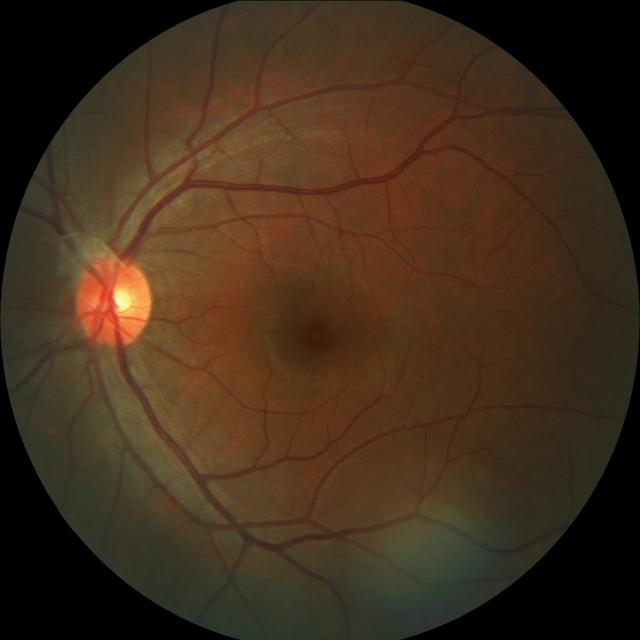OC: (97, 280, 135, 320)
OD: (77, 257, 154, 345)
